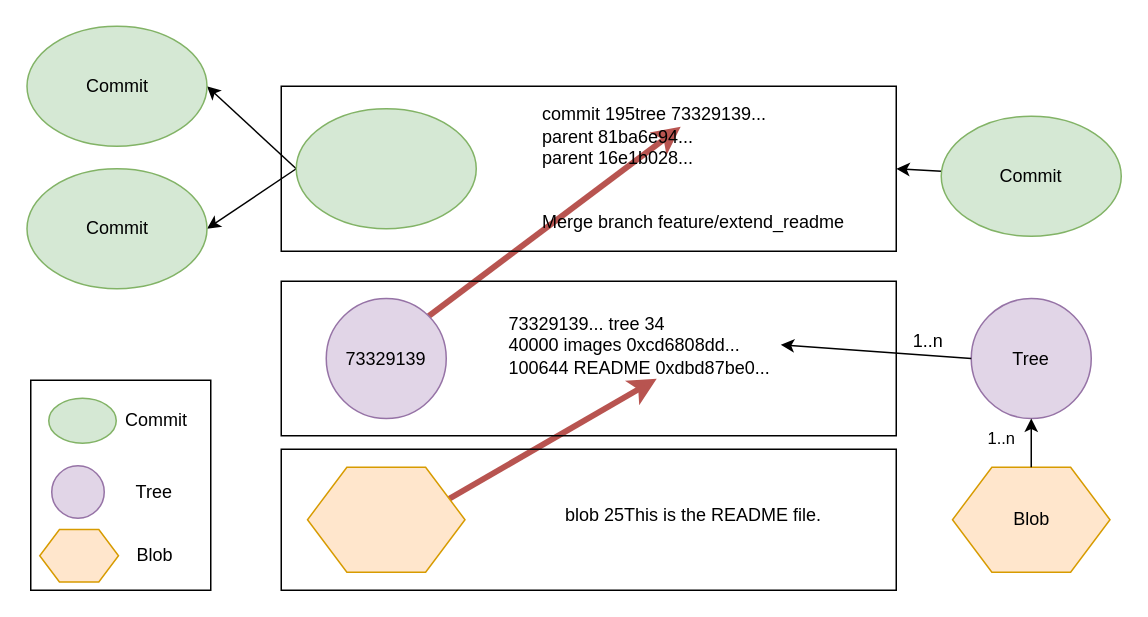
Image size: 1148x617. Some labels were removed from this diagram. The centre of each missing label's shape, as x and y in pixels:
d8c22f82: pixel 385 168
dbd87be0: pixel 385 519
